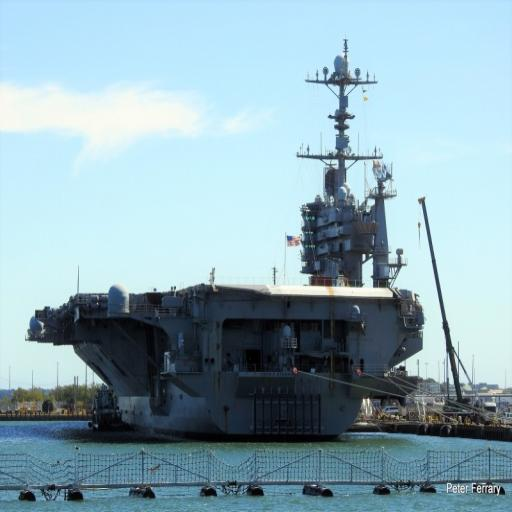Portanaves: (27, 31, 433, 443)
